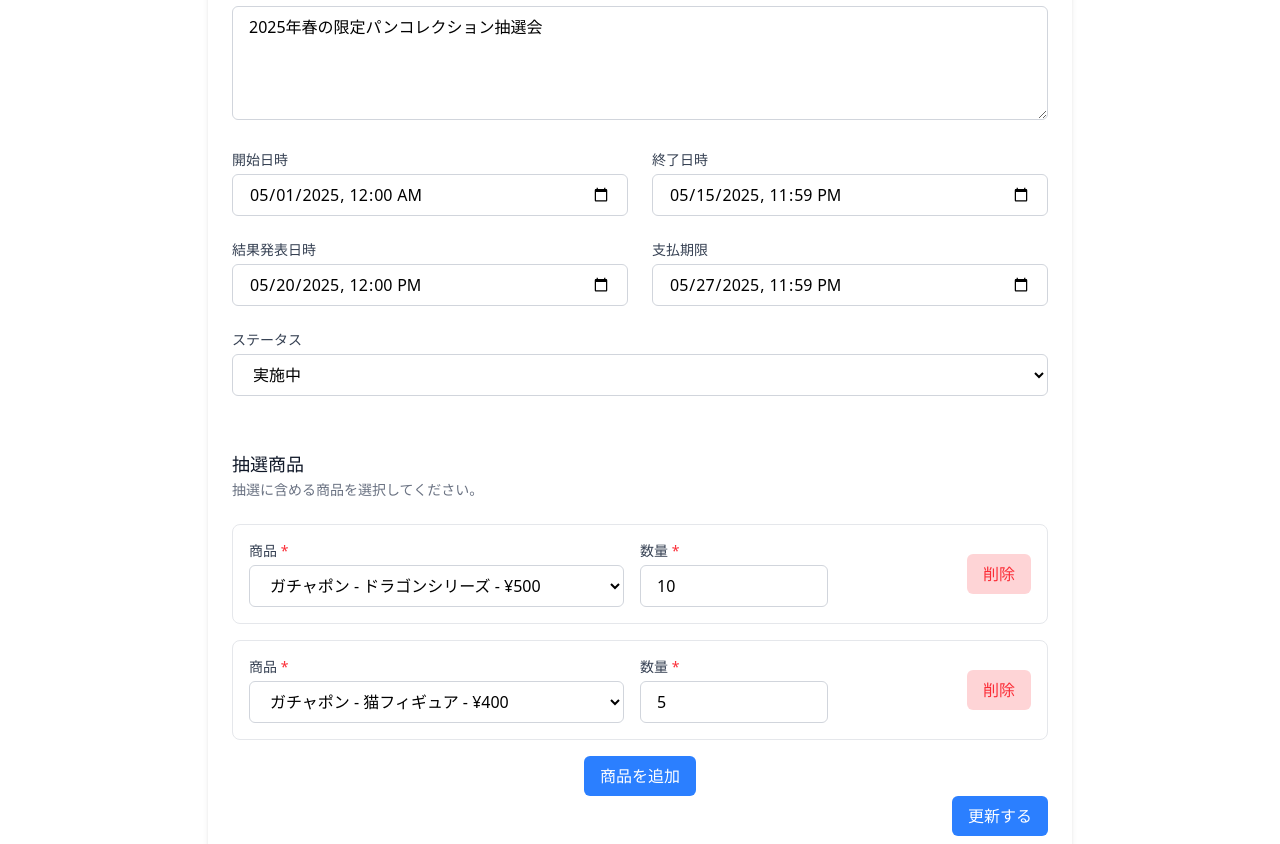
Test case: 抽選イベント編集ページ › handleSubmit機能 › 正常にフォームが送信されると成功メッセージが表示されること
(page scrolled)
Click the button "更新する" at (1000, 816), box [952,796,1048,836]
(page scrolled)
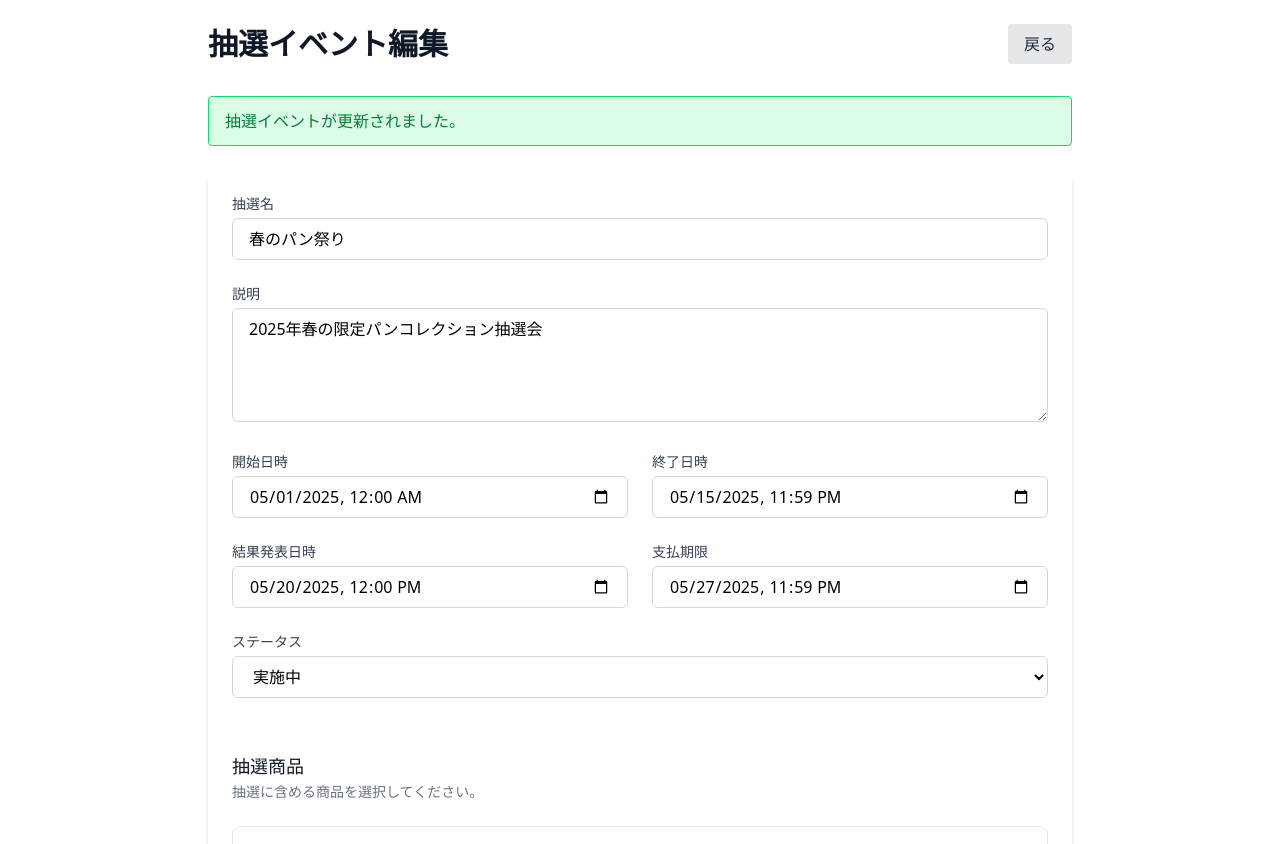
Expected: the text "抽選イベントが更新されました。" is shown, [225,110,465,132]
